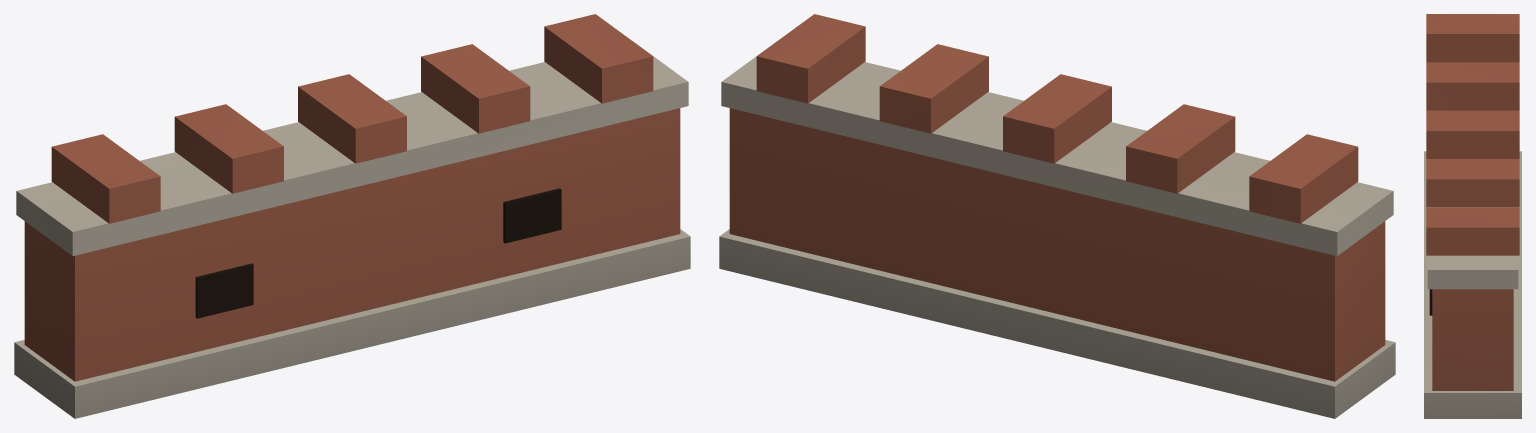
Rendered from republic_curtain_lod1.glb.
The picture shows the model from 3 angles, left to right: view 1: azimuth 30°, elevation 25°; view 2: azimuth 150°, elevation 25°; view 3: azimuth 270°, elevation 25°; orthographic projection. The views are drawn at different scales.
Visible parts, largest first — view 1: GEO-Arch_republic_curtain_LOD1; view 2: GEO-Arch_republic_curtain_LOD1; view 3: GEO-Arch_republic_curtain_LOD1.
Boxes of the visible parts, left/top/right/bottom form: GEO-Arch_republic_curtain_LOD1: left=14, top=14, right=690, bottom=418; GEO-Arch_republic_curtain_LOD1: left=719, top=14, right=1395, bottom=418; GEO-Arch_republic_curtain_LOD1: left=1424, top=14, right=1521, bottom=418.
Bounding box in the file's own units: 12 × 4.1 × 2.05.
